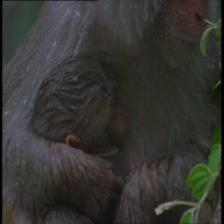monkey: (34, 51, 140, 163), (144, 0, 219, 77)
